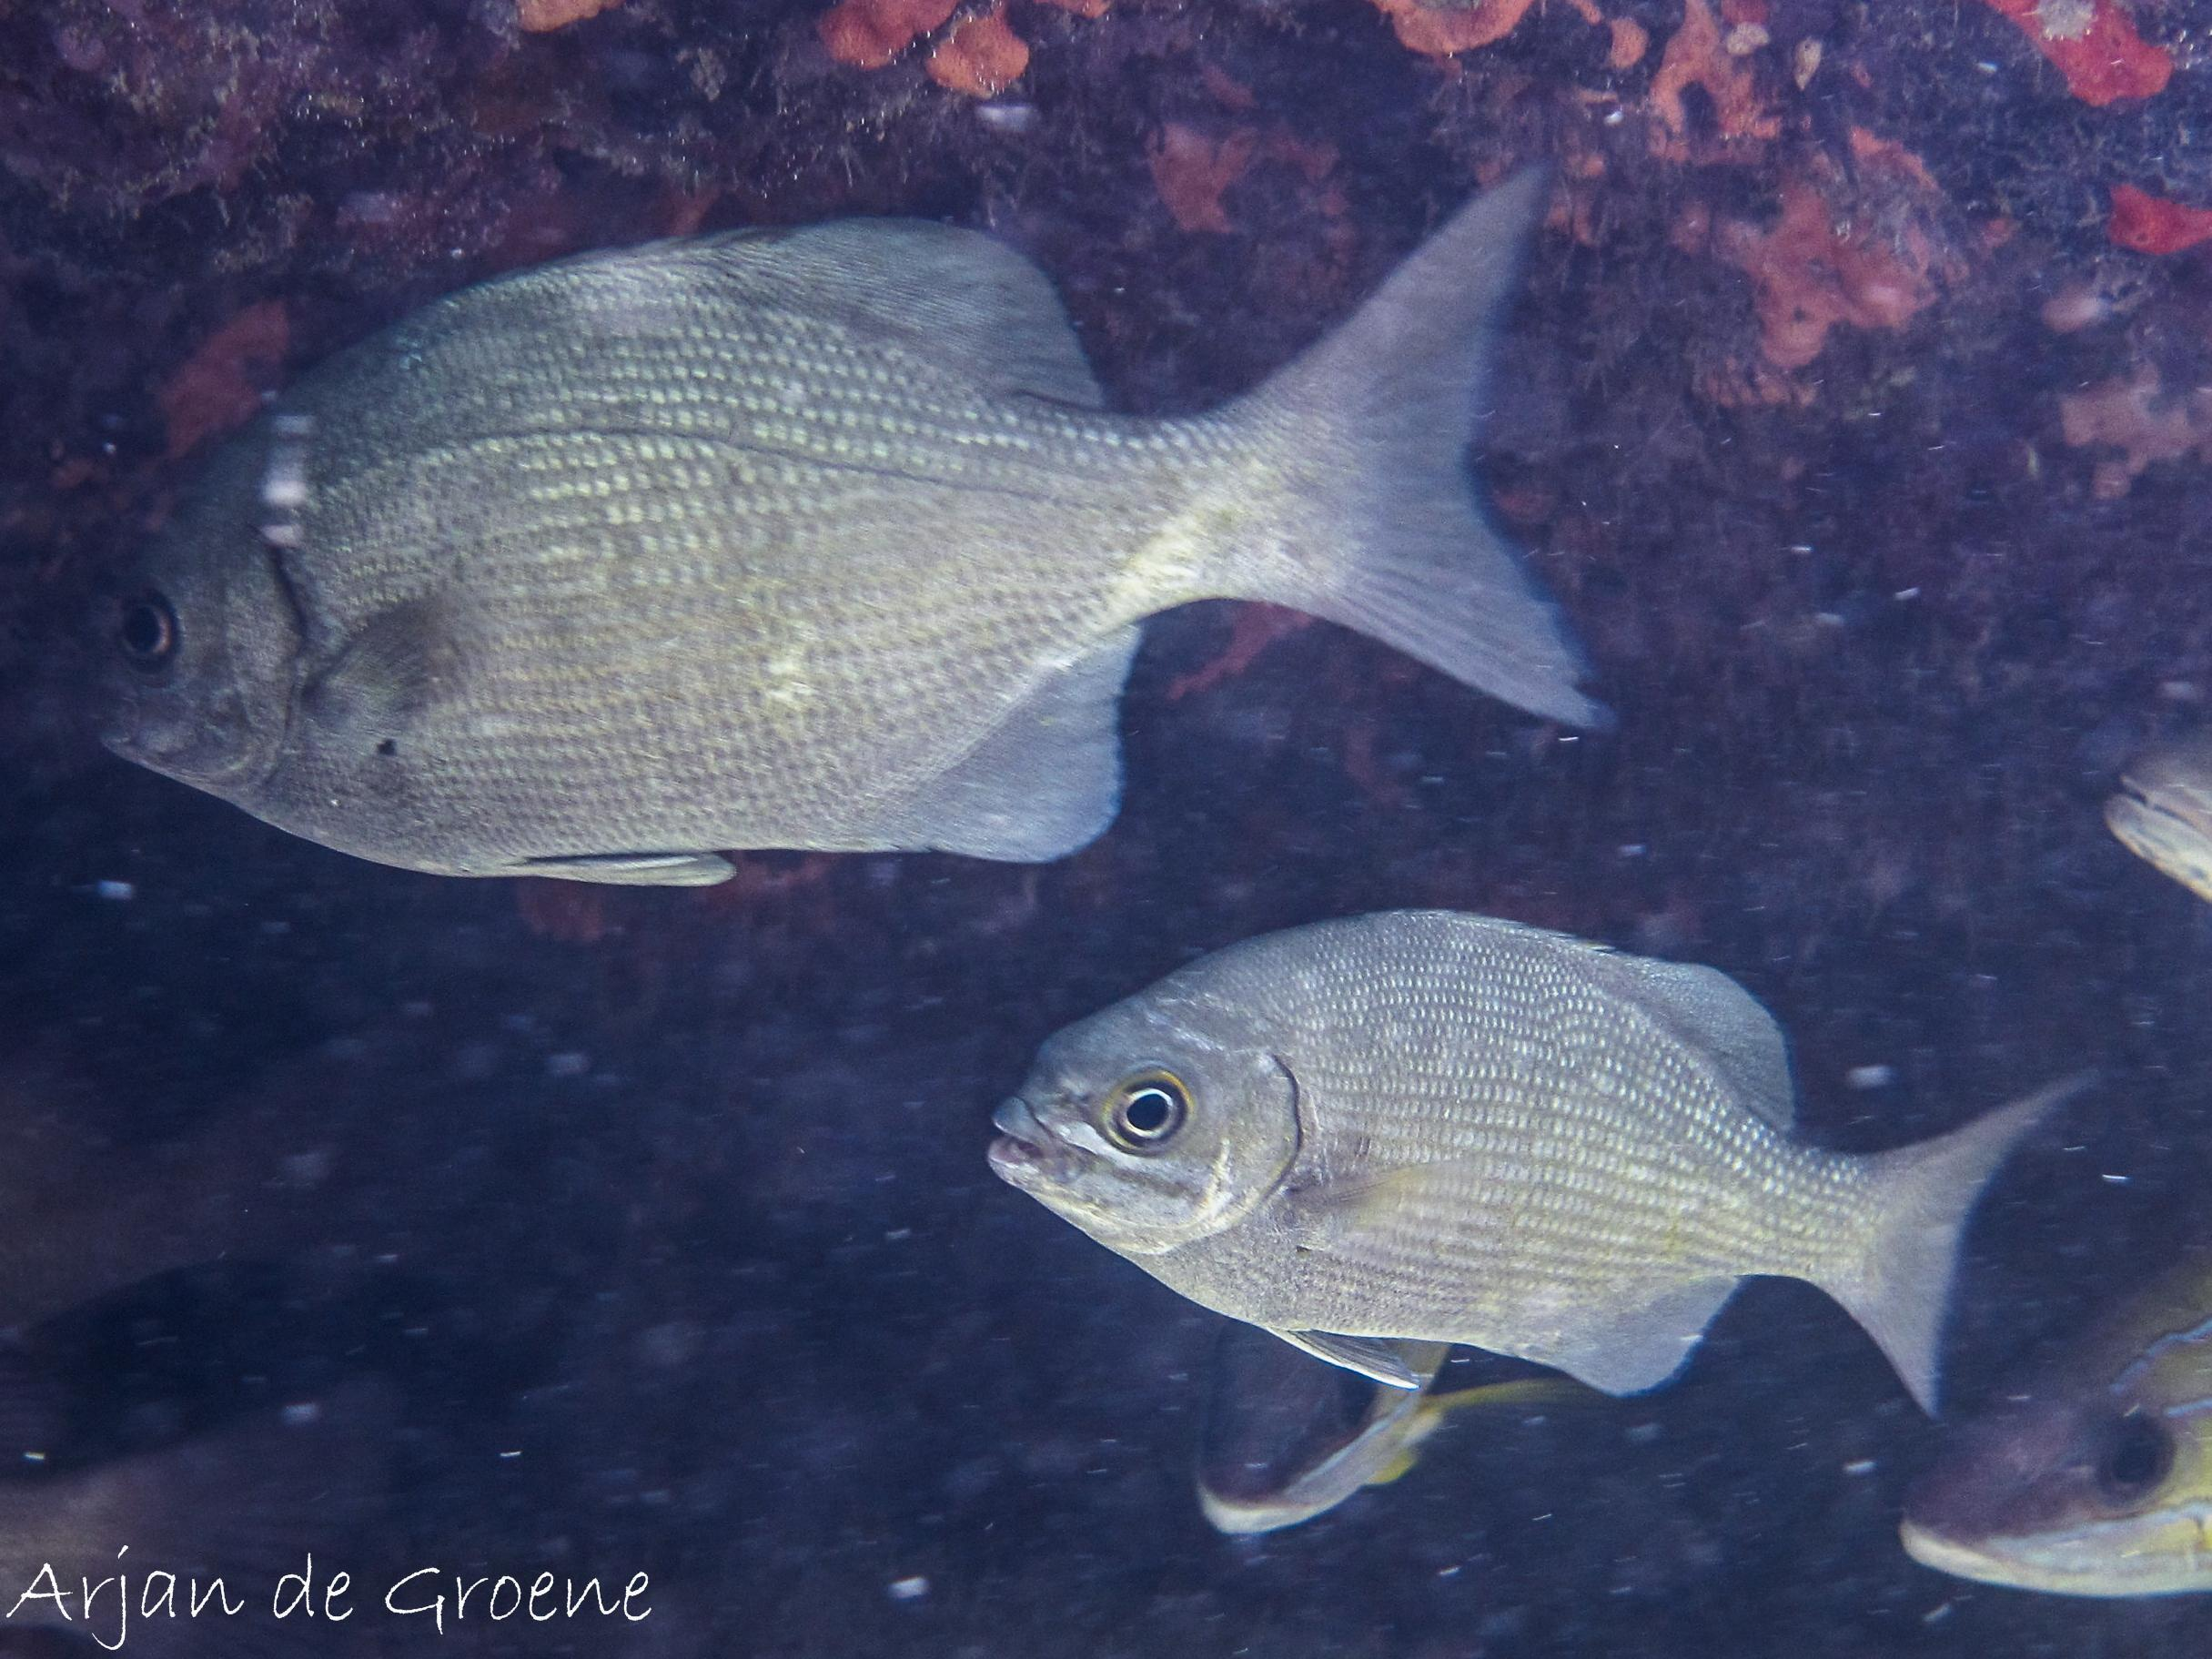Fish: (0, 155, 1637, 864), (939, 904, 2036, 1488)
